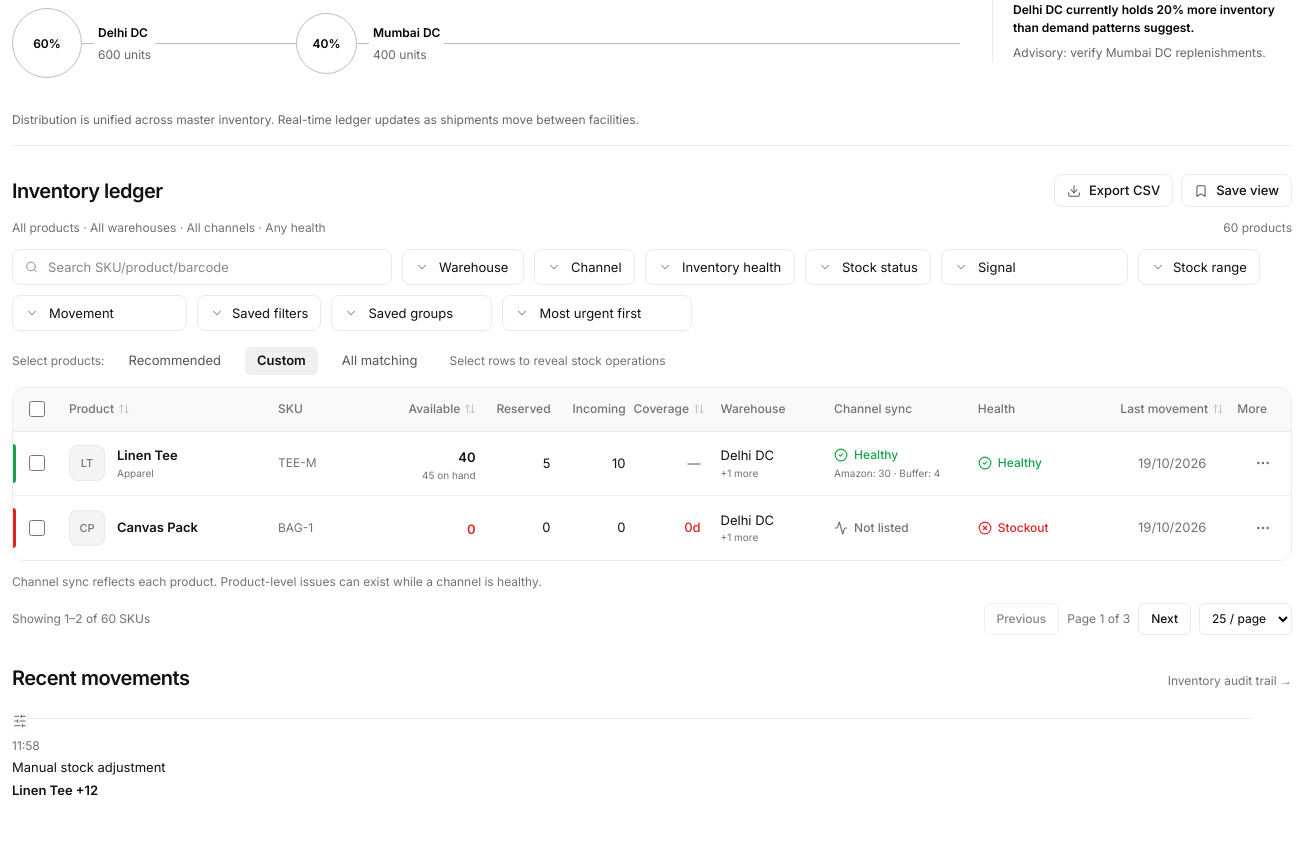
InventoryPage ledger › sorts from a column header, pages and changes the page size
(page scrolled)
Expected: the button "Linen Tee" is shown, [117,446,178,466]
Click the button "Available": point(442, 409) [409,400,476,418]
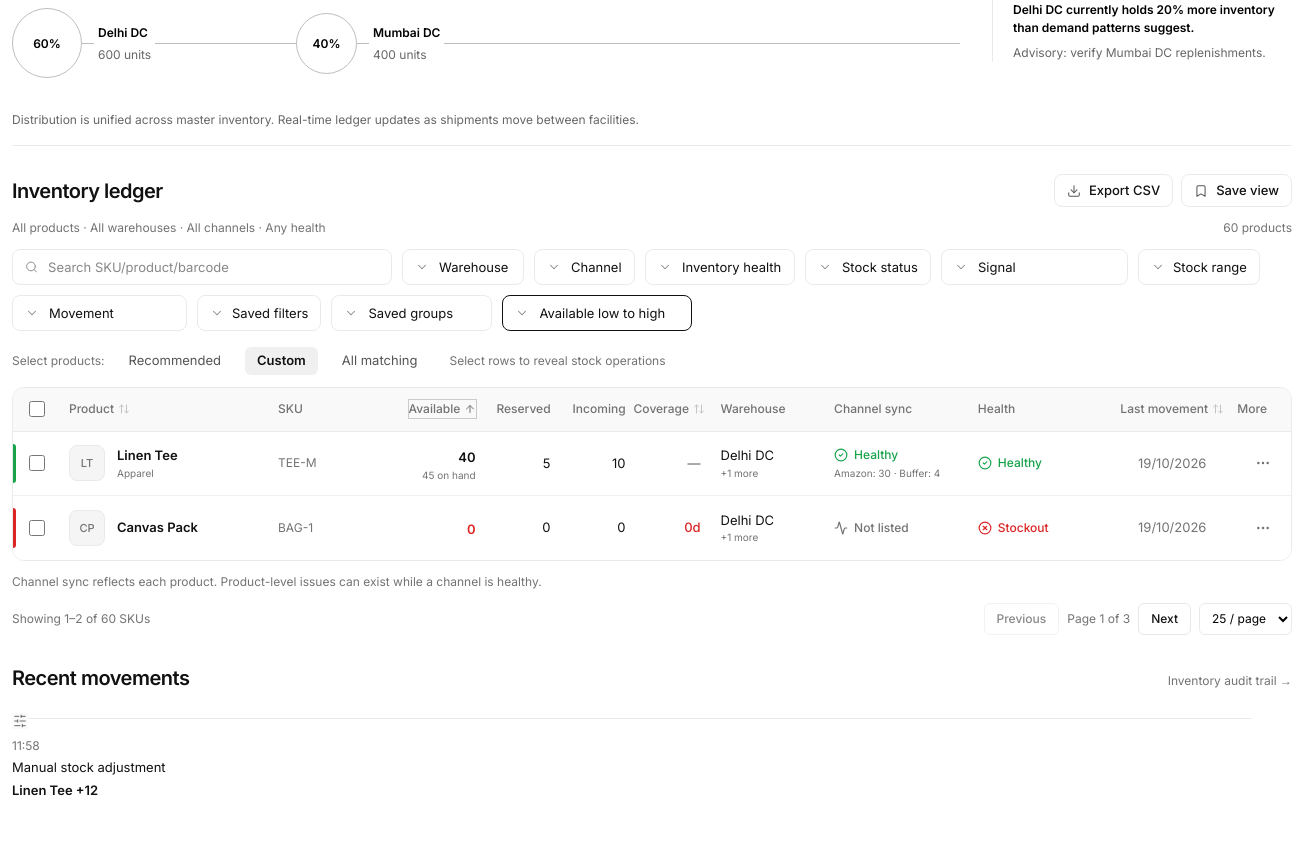
Click the button "Available": point(442, 409) [409,400,476,418]
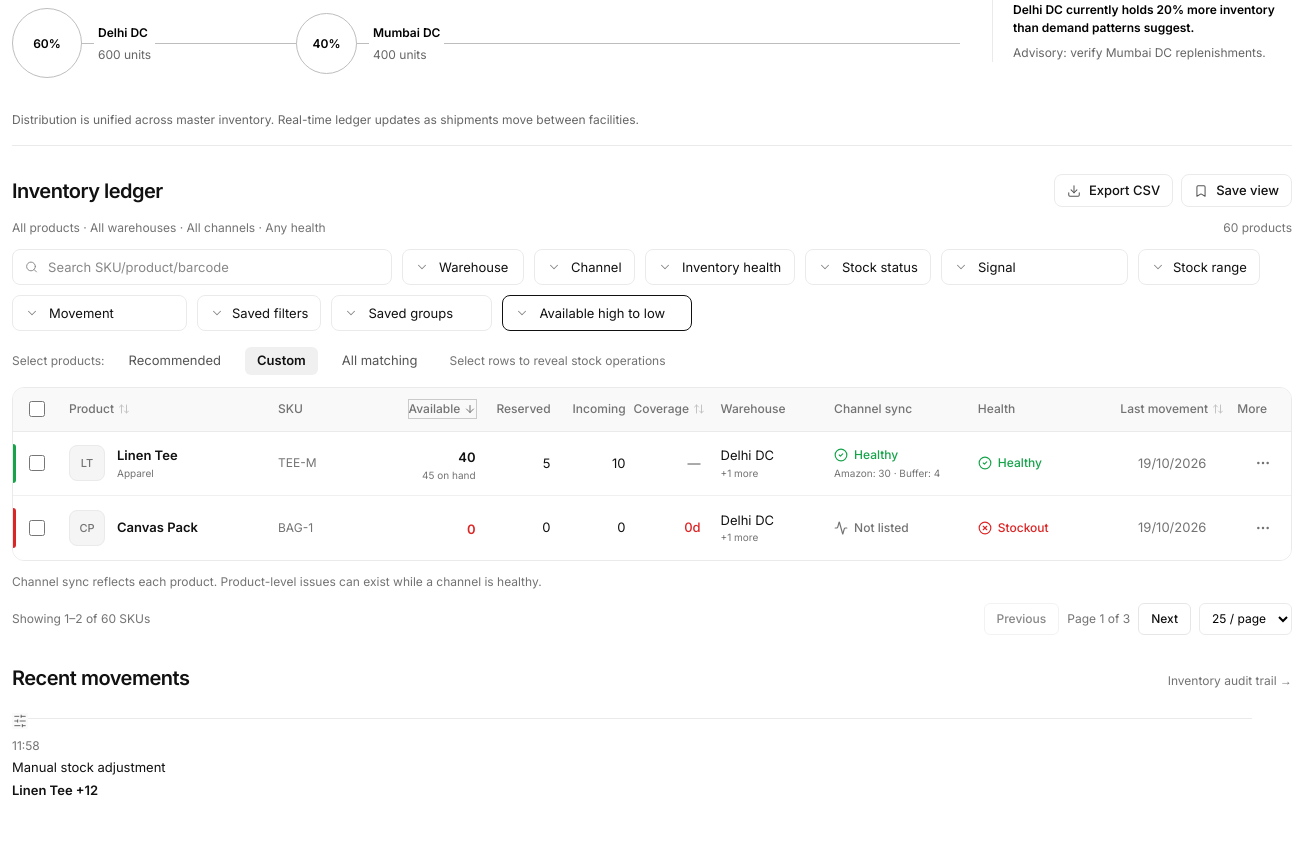
Click the button "Next": point(1165, 619) [1138,603,1191,635]
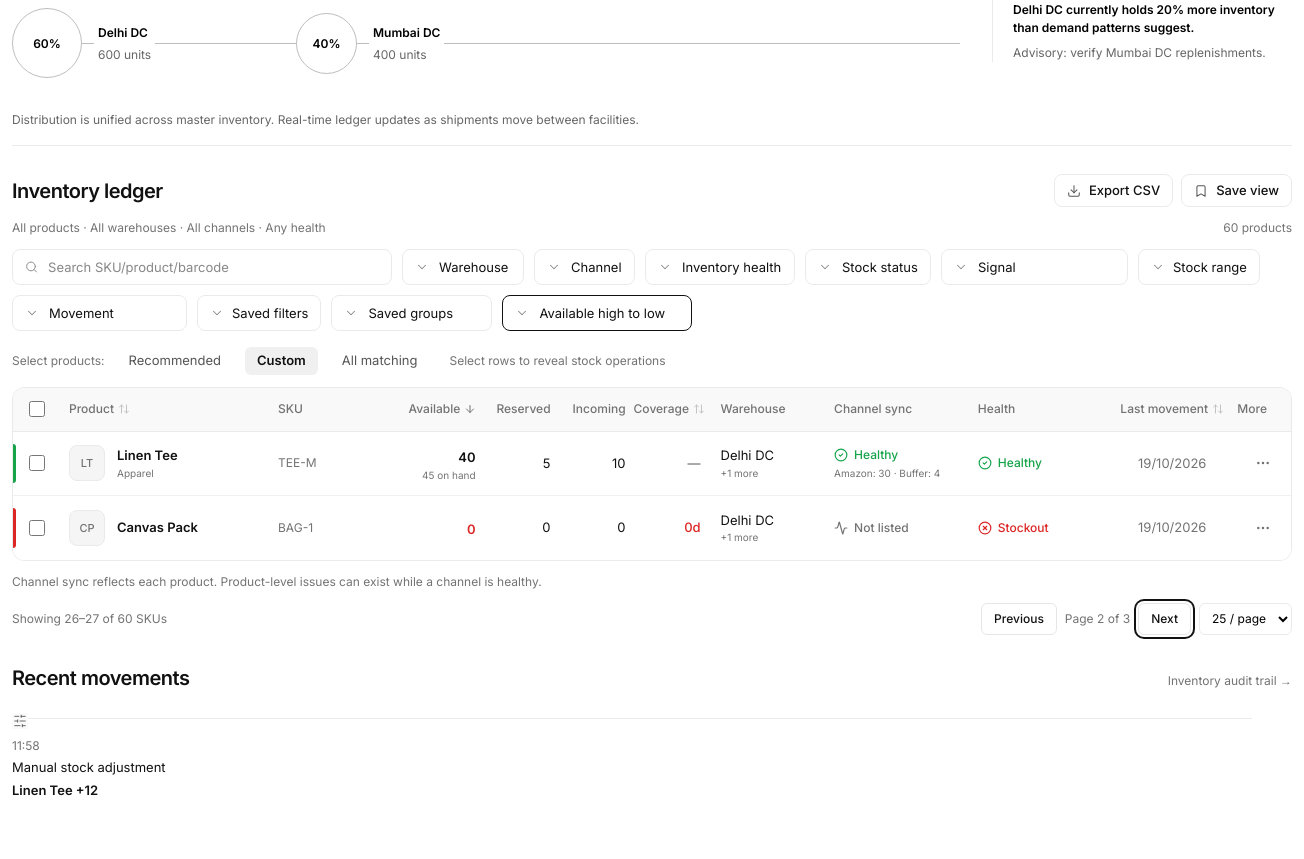
Expected: the text "Showing 26–27 of 60 SKUs" is shown, [12,610,167,628]
Select "50 / page" in the dropdown named "SKUs per page": point(1246, 619) [1199,603,1292,635]
(page scrolled)
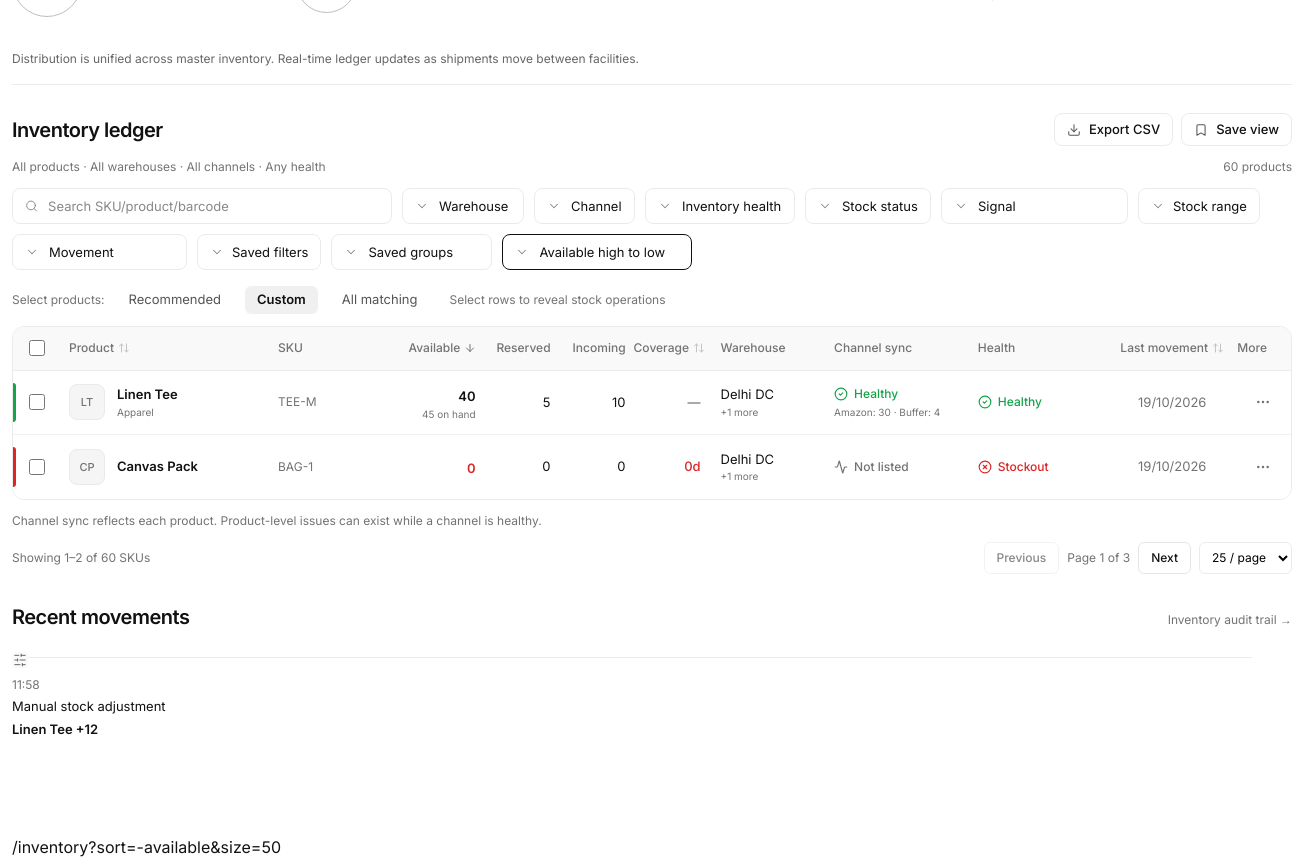
Expected: the text with test id "where" reads "/inventory?sort=-available&size=50", [12,837,281,857]
